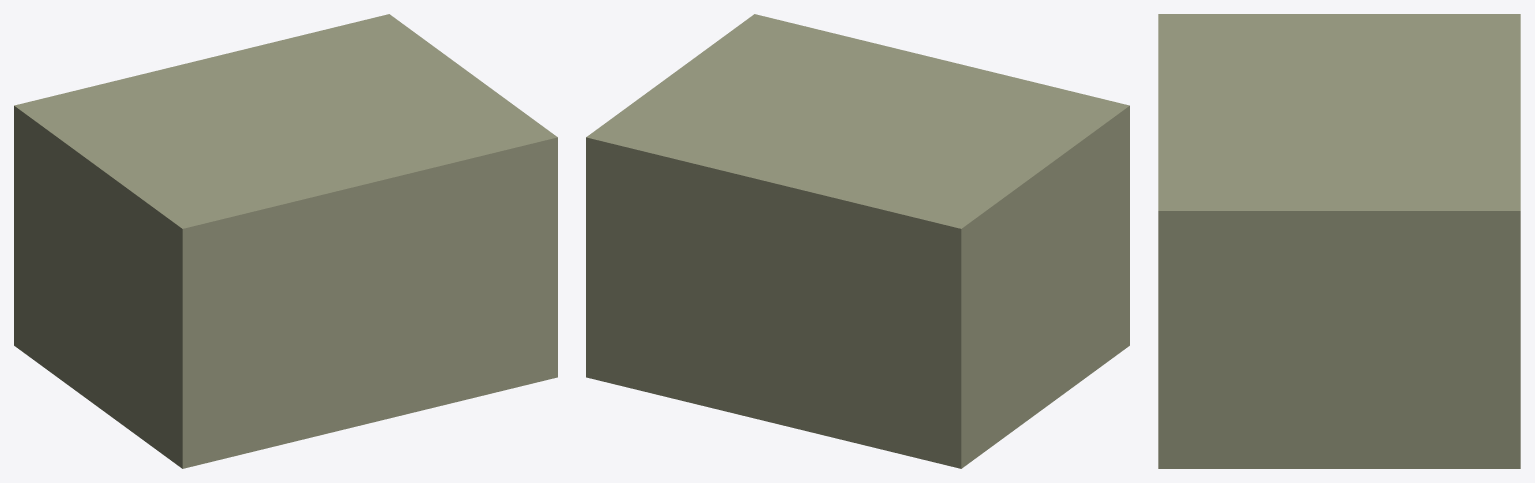
Rendered from ammo_box.gltf.
3 views of the same model, side by side, from view 1: azimuth 30°, elevation 25°; view 2: azimuth 150°, elevation 25°; view 3: azimuth 270°, elevation 25° (orthographic). The views are drawn at different scales.
Parts seen in each view (by area): view 1: ADY_AmmoBox; view 2: ADY_AmmoBox; view 3: ADY_AmmoBox.
Part boxes in pixels (x1,y1,x2,y2): ADY_AmmoBox: [14, 14, 557, 468]; ADY_AmmoBox: [586, 14, 1129, 468]; ADY_AmmoBox: [1158, 14, 1520, 468].
Bounding box in the file's own units: 0.36 × 0.22 × 0.28.
